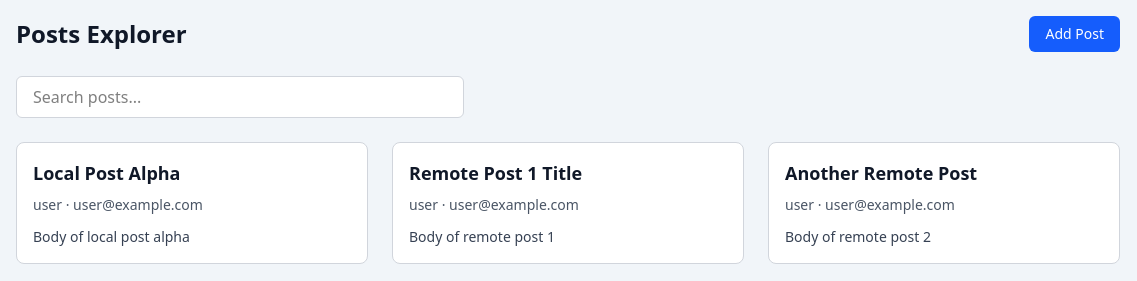
Test case: PostList Component › Interactions › filters posts by search term
In the field with placeholder "Search posts...": (240, 97) x1=16 y1=76 x2=464 y2=118, type "Alpha"
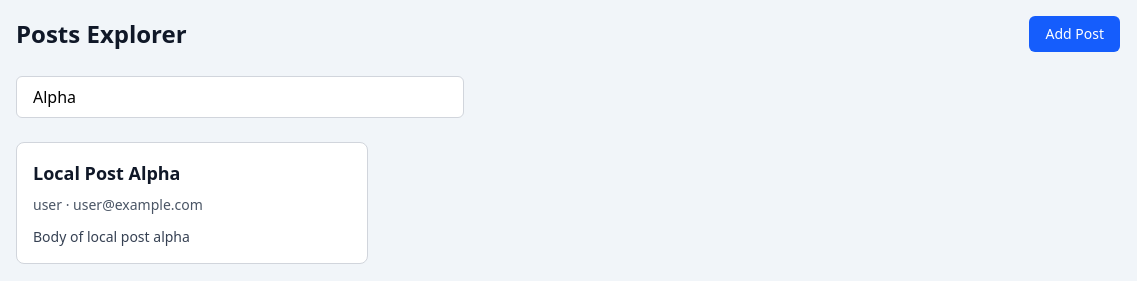
Expected: the heading "Local Post Alpha" is shown, x1=33 y1=161 x2=180 y2=185
Now the link "Remote Post 1 Title" is gone
